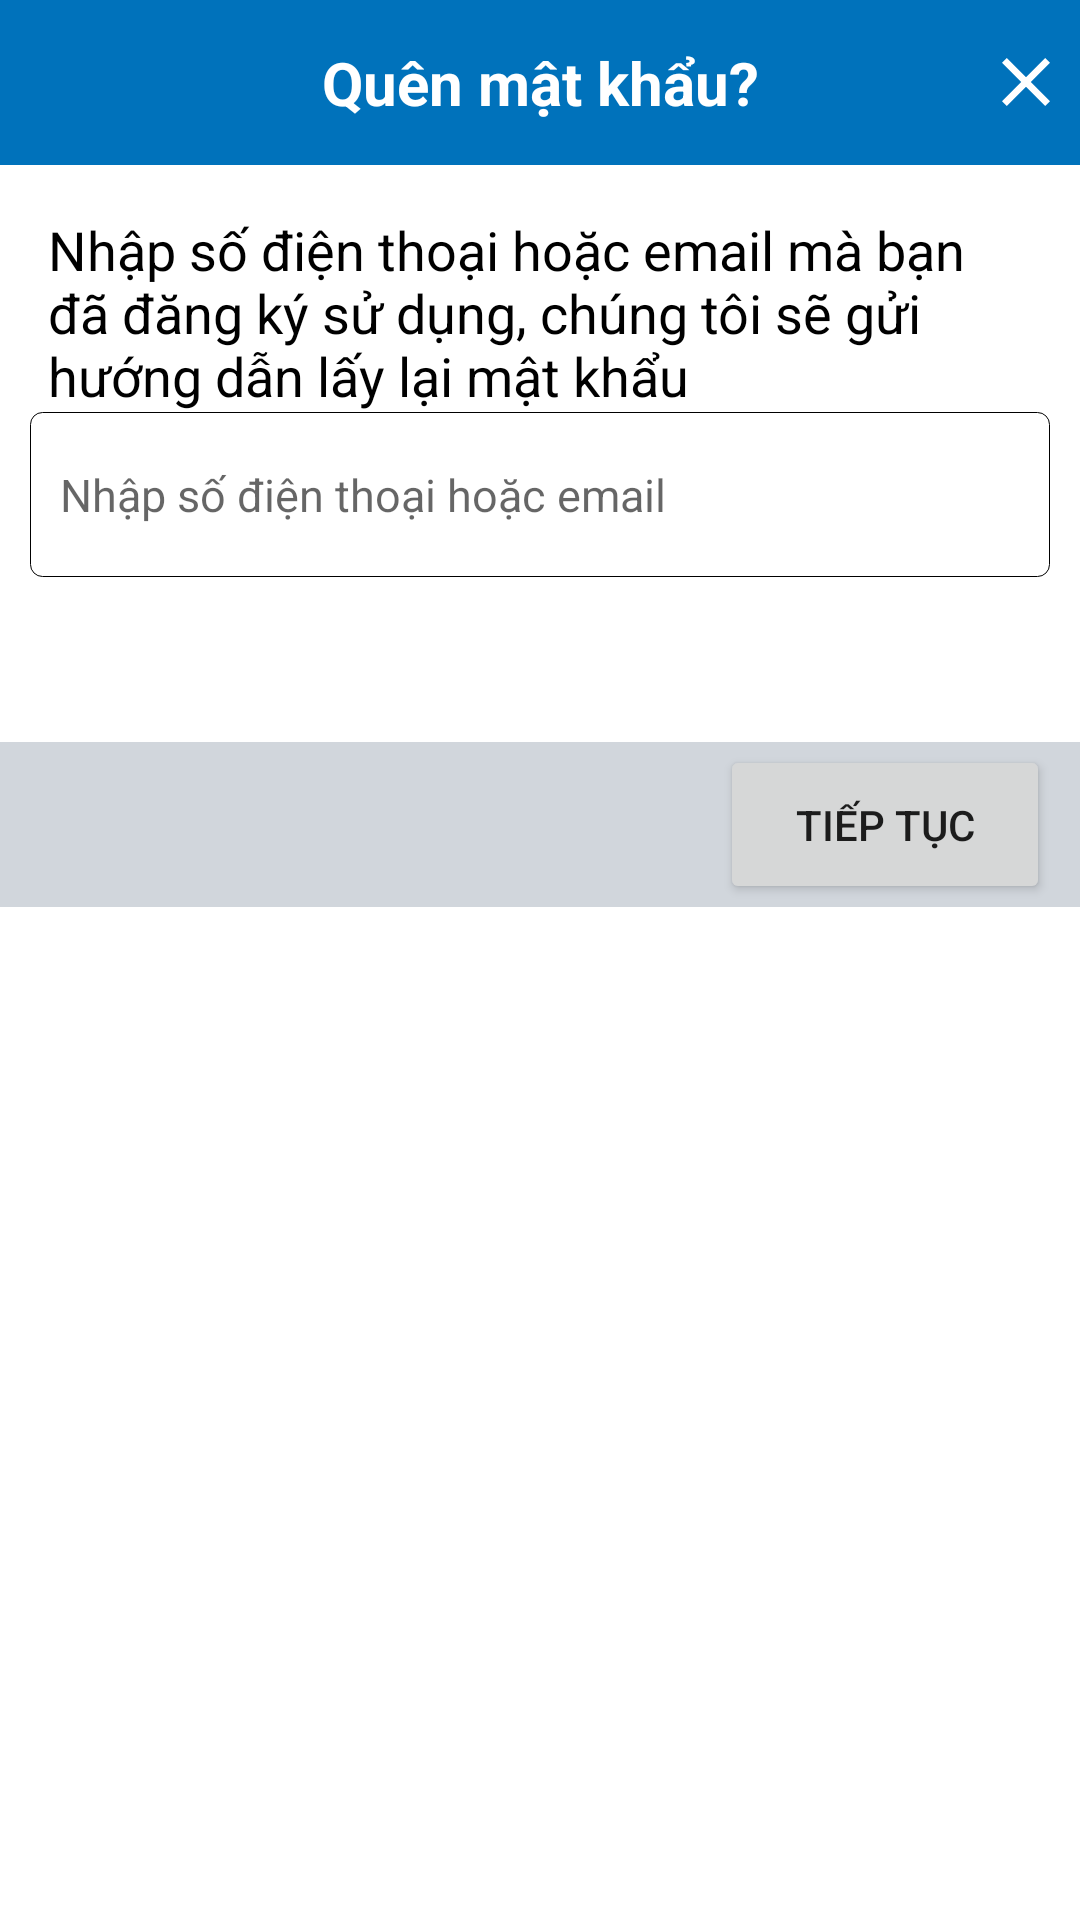

Icon click points for this 1080 x 1920 phone screenshot, format [x,y]:
close: [1026,82]
